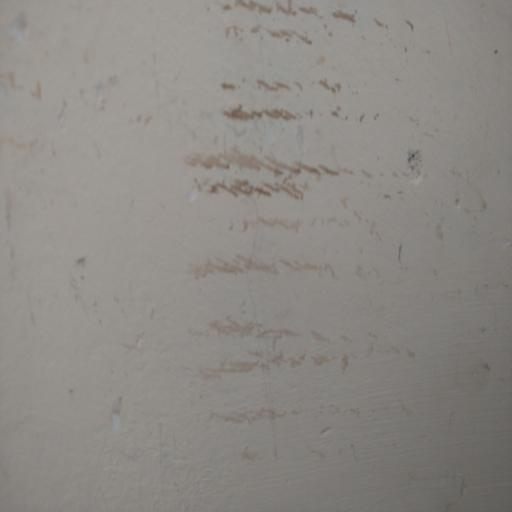stain: (159, 9, 429, 449)
